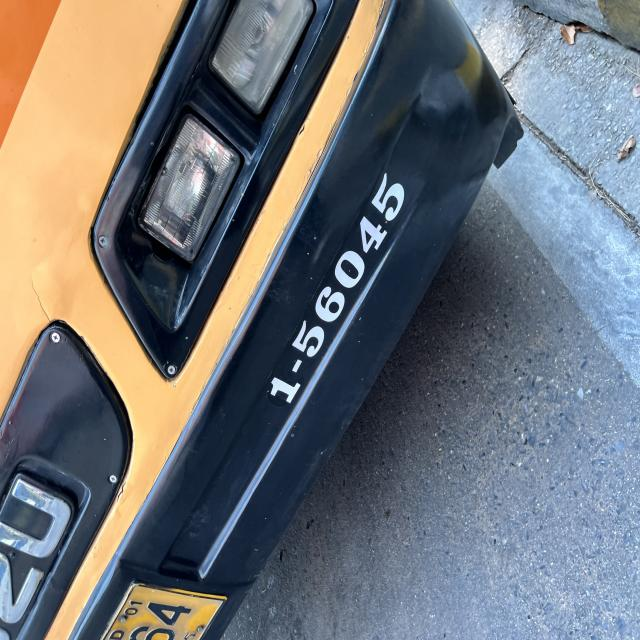BMTA-bus: (0, 0, 535, 640)
